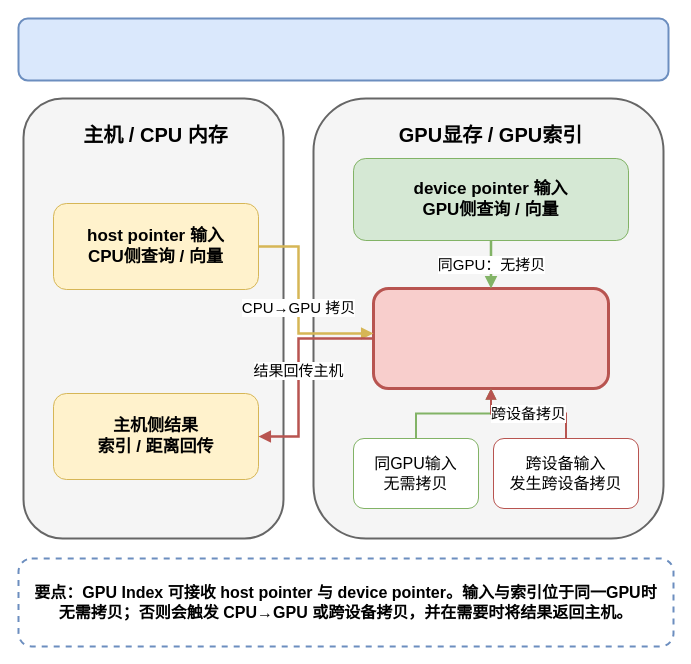
Image size: 691x664. Some labels were removed from this diagram. The shapes that lost their labels are listed below. From the top down, each one's box as (x1, y1, x2, y2) in pixels, then its label:
(17, 17, 669, 81): FAISS-GPU：CPU / GPU 互操作路径
(372, 286, 610, 390): FAISS-GPU 索引 GPU上 search() / add()
